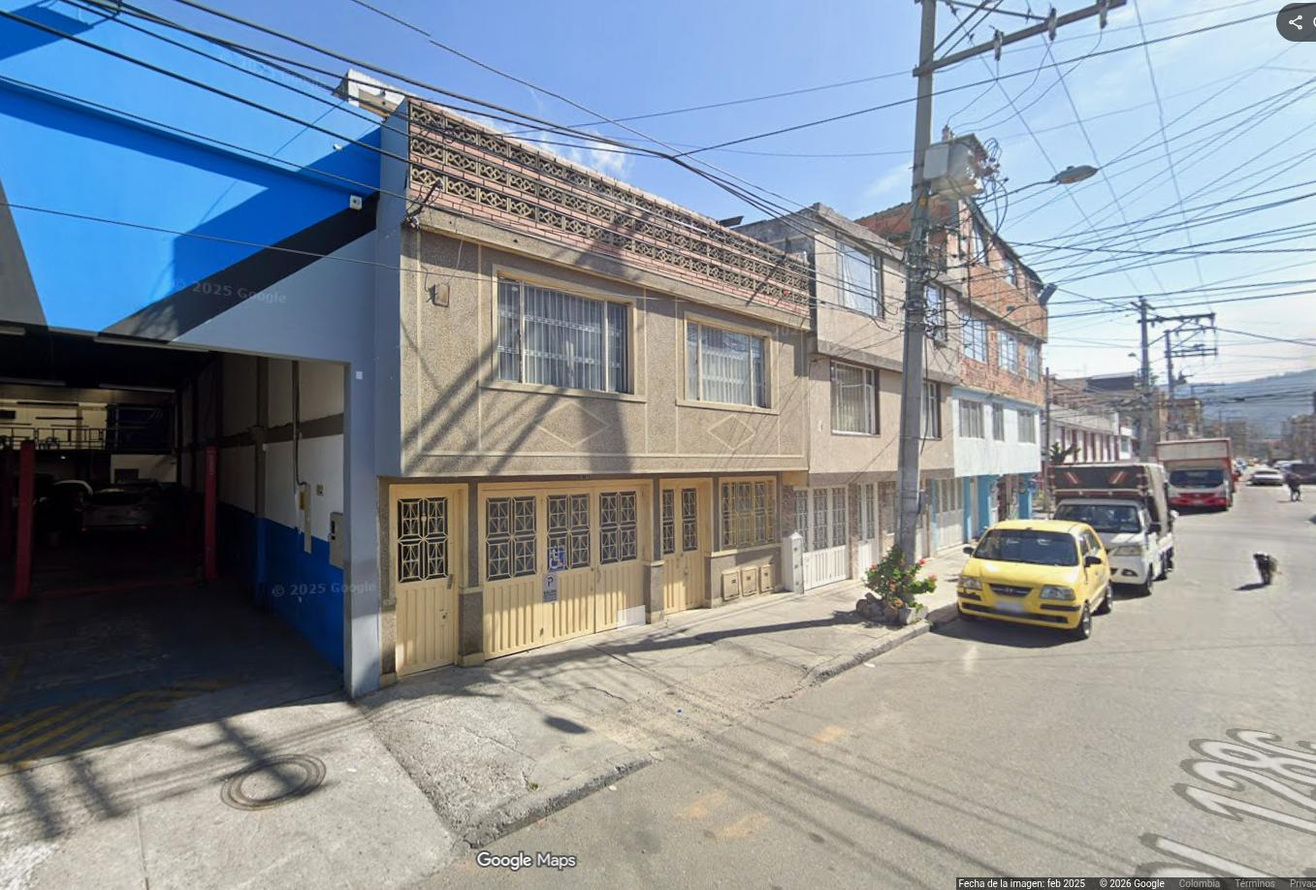casa: (373, 101, 815, 674), (737, 204, 904, 585), (932, 201, 1046, 541), (915, 334, 961, 478)
poste: (896, 0, 1127, 556), (1136, 299, 1213, 460)
